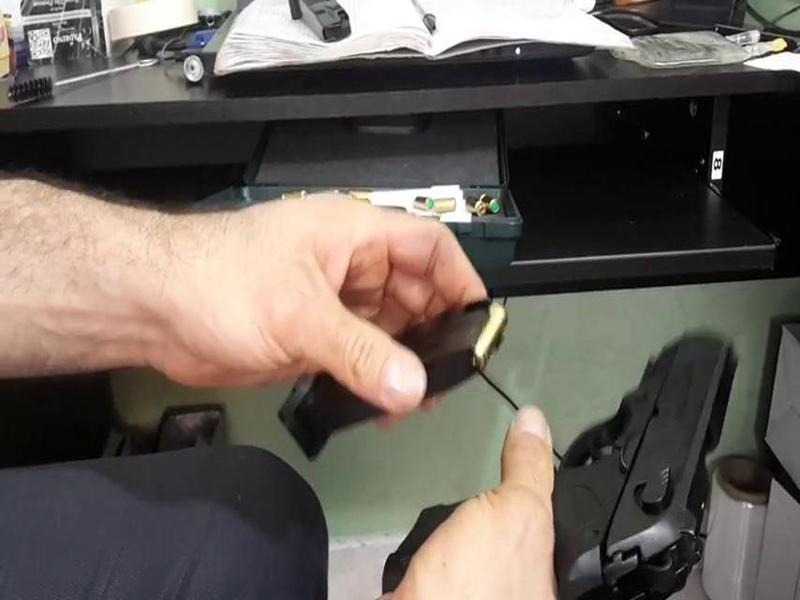Pistola: (530, 309, 747, 600)
